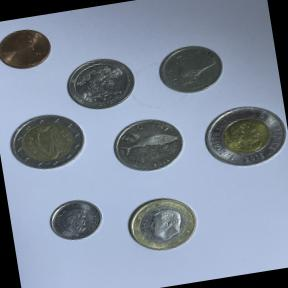coin: (194, 95, 288, 178), (0, 106, 92, 178), (119, 186, 204, 258), (105, 110, 190, 180), (58, 50, 140, 115), (42, 190, 110, 250), (0, 21, 56, 75)
